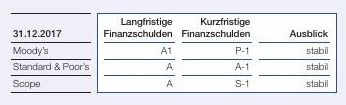table: (0, 0, 346, 105)
